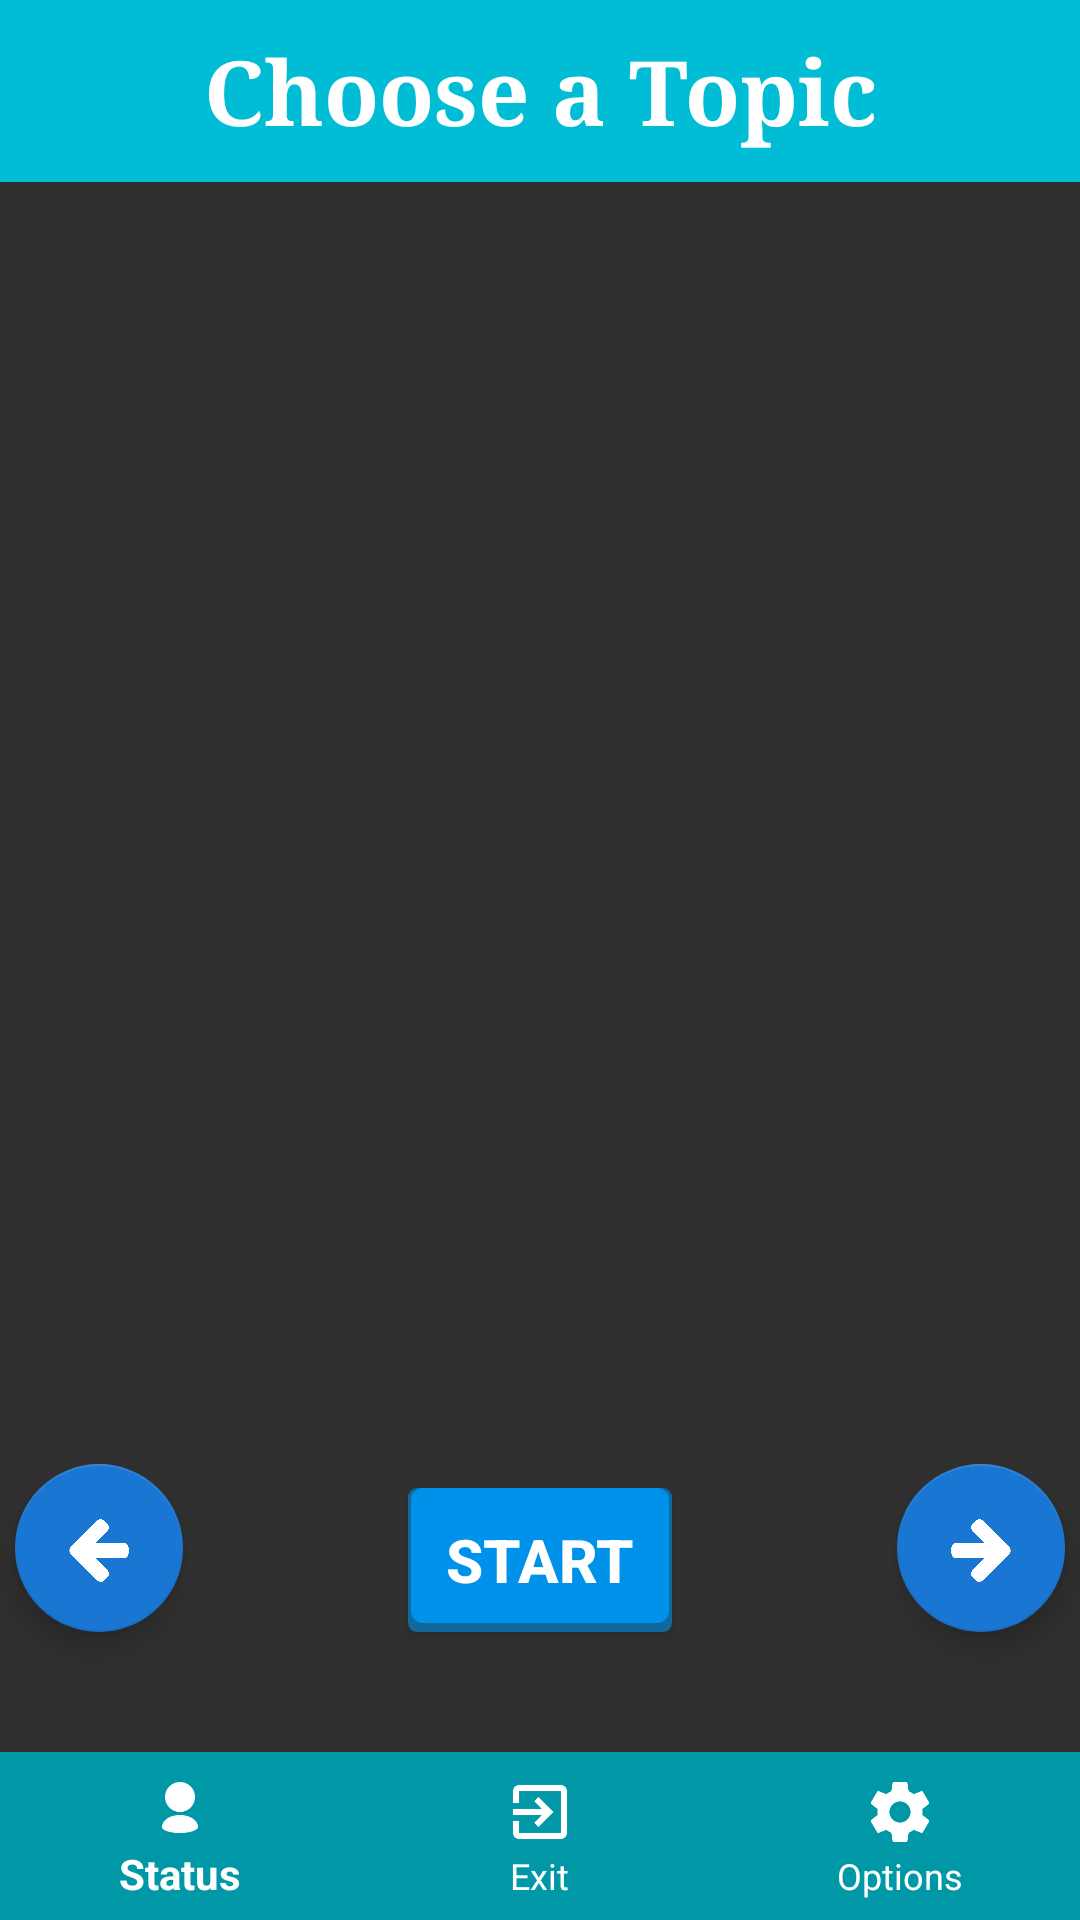

Icon bounding boxes for this 1080 × 1920 phone screenshot, format detection(x1, y1, x2, y2):
arrow left: detection(15, 1464, 183, 1632)
arrow right: detection(897, 1464, 1065, 1632)
